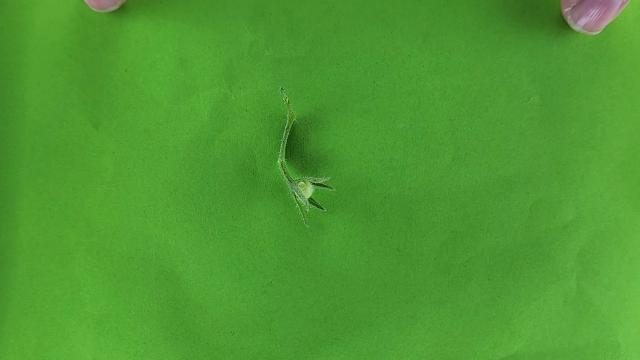Fruit Bud: (288, 175, 333, 225)
